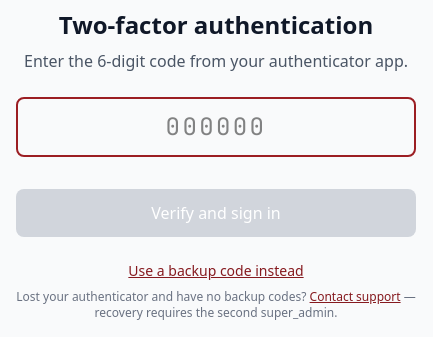
MfaChallengePage › toggles into backup-code mode and exposes the 10-digit input
Click the button "Use a backup code instead" at (216, 271), box [128,261,304,281]
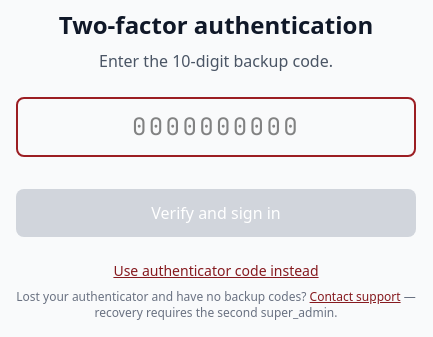
Now the field with placeholder "0000000000" is shown, box [16,97,416,157]
